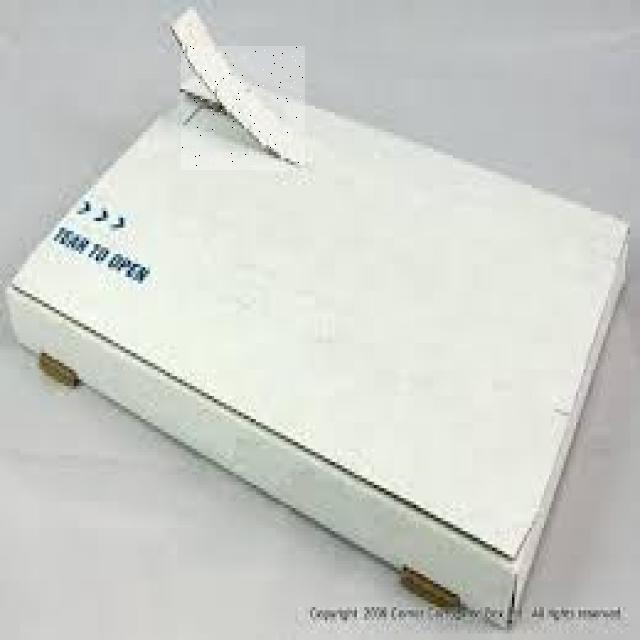tear: (181, 46, 303, 170)
